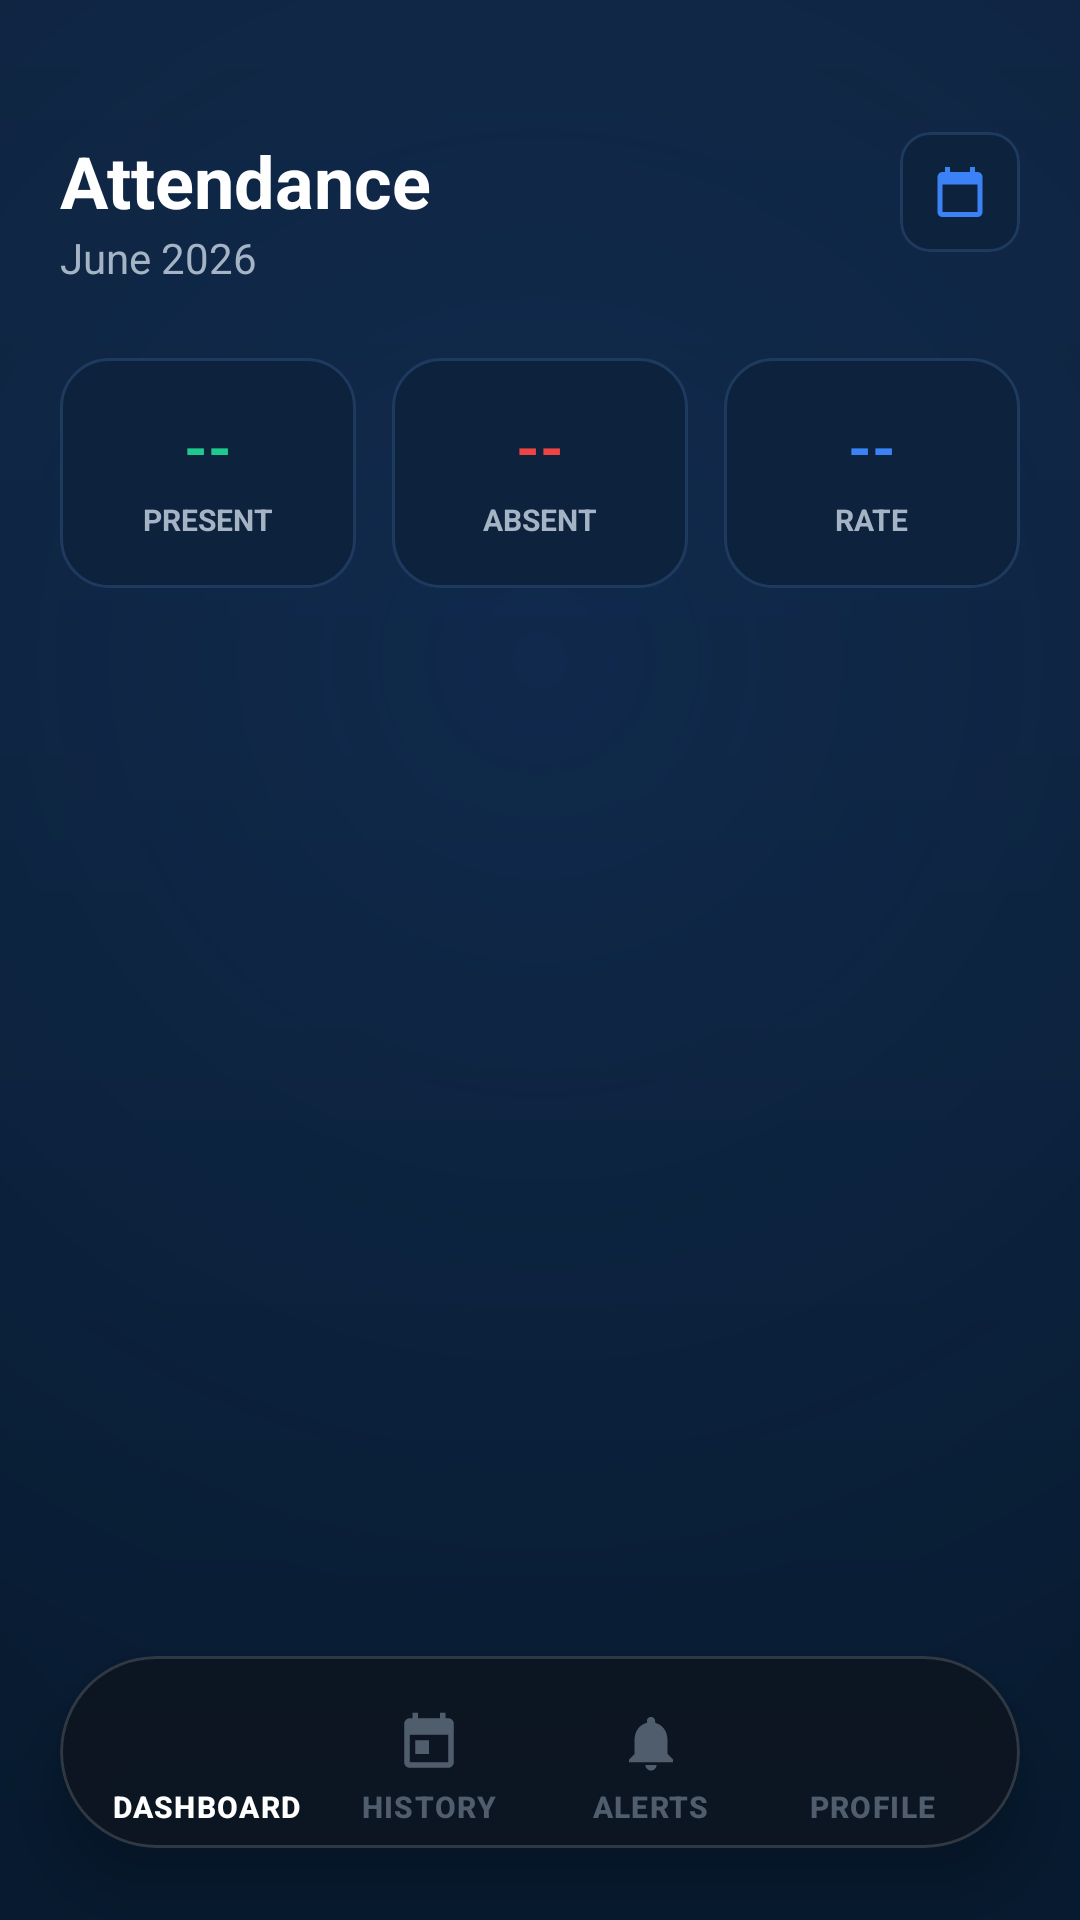

Icons on this 1080 × 1920 Android screen, each with the point to tap as (x,y):
calendar: (960,192)
